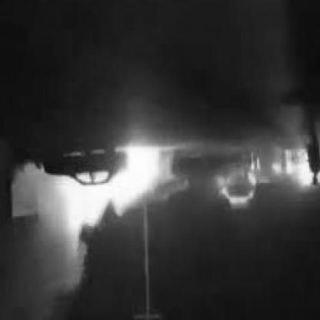Fire: (18, 146, 172, 272), (270, 148, 319, 198)
